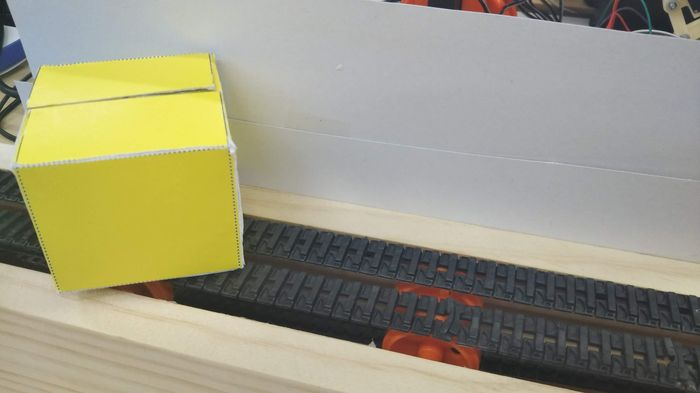box4: (12, 49, 255, 295)
